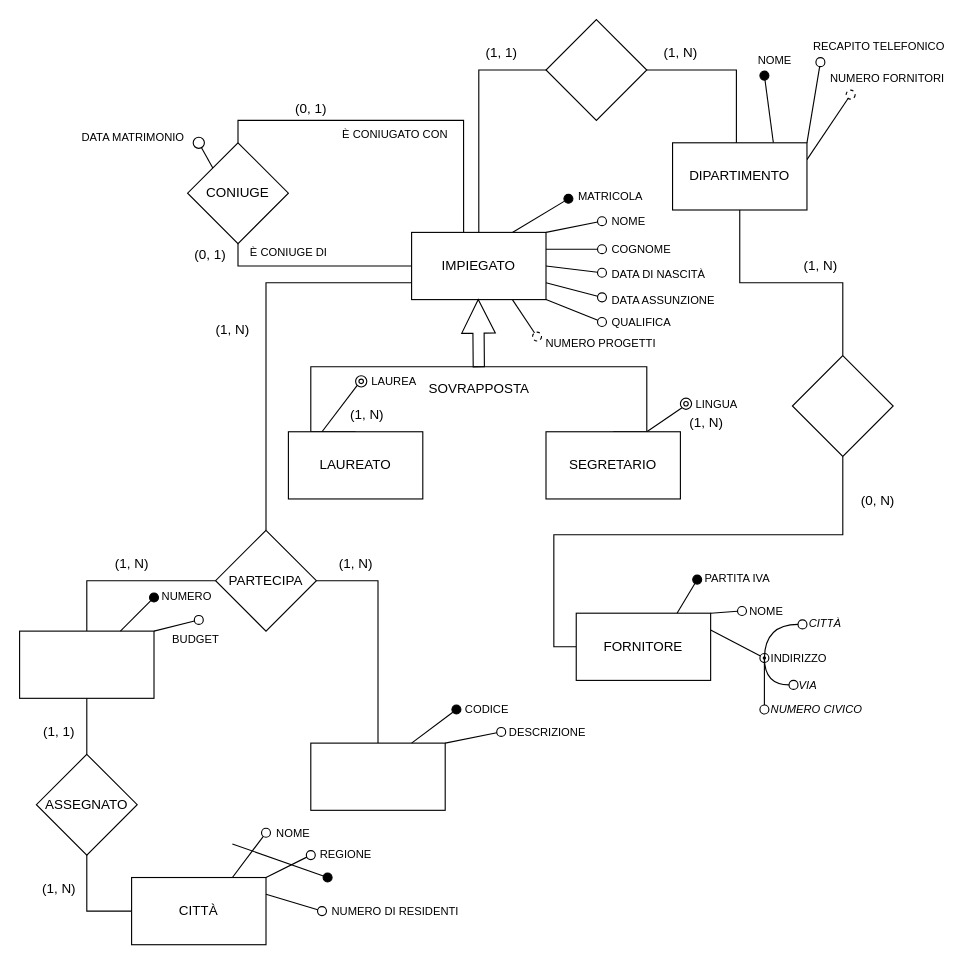
The diagram is 964 pixels wide and 964 high, and some of its shapes have lost their labels. The box of each missing label's shape, as (x1, y1, x2, y2) in pixels:
AFFERISCE: (545, 18, 647, 120)
COMPETENZA: (310, 742, 445, 810)
PROGETTO: (18, 630, 154, 698)
RIFORNISCE: (791, 354, 893, 456)
